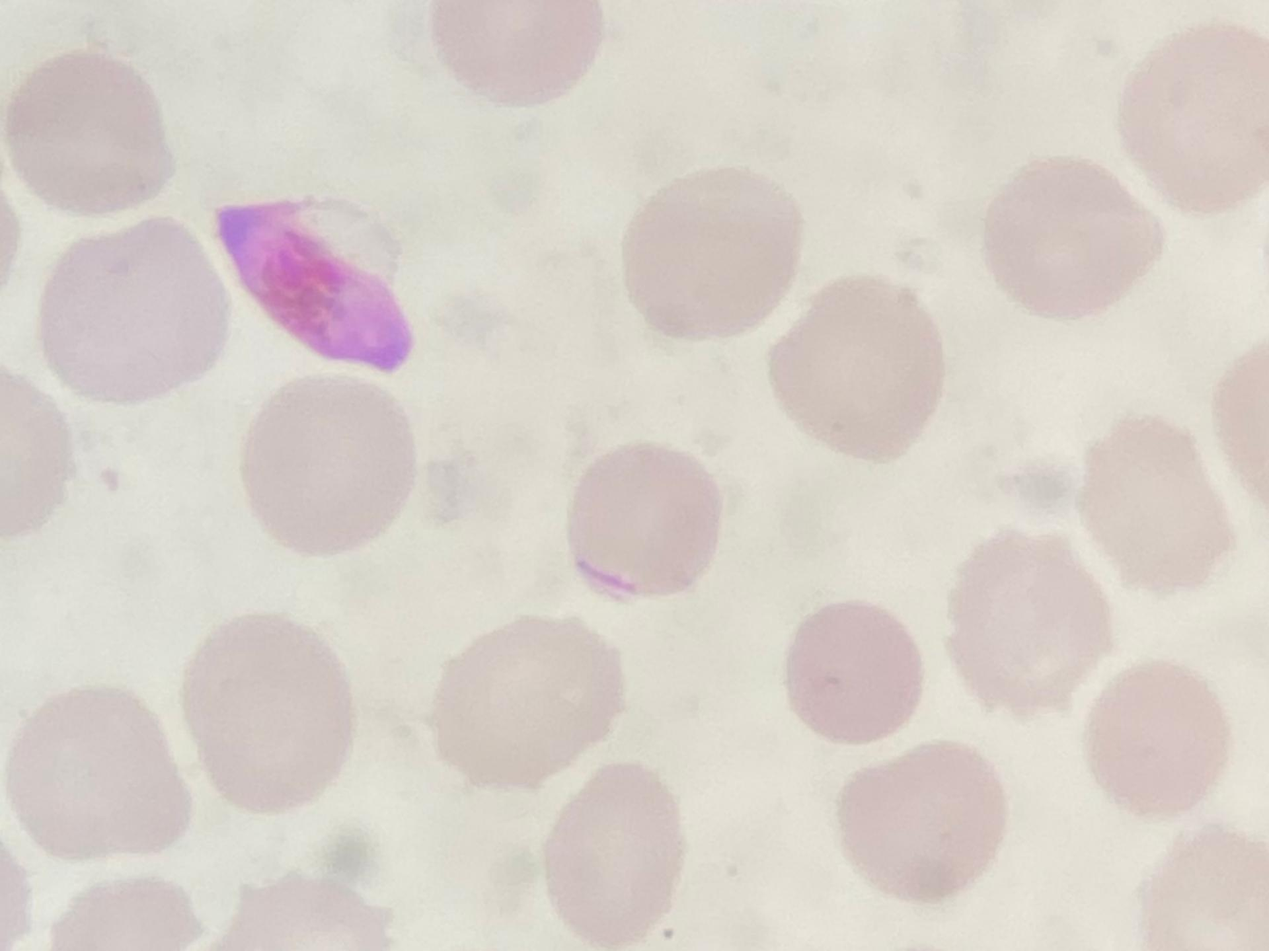Infected: (209, 199, 414, 368)
Uninfected: (183, 616, 358, 815), (40, 219, 225, 401), (430, 619, 621, 787), (5, 685, 184, 860), (771, 280, 946, 458), (621, 169, 803, 335), (247, 375, 417, 549), (983, 158, 1158, 318), (950, 533, 1110, 708), (834, 740, 1005, 903), (5, 51, 175, 214), (1119, 26, 1267, 207), (1080, 417, 1229, 588), (543, 763, 683, 942), (566, 443, 722, 597), (1082, 666, 1225, 817), (783, 601, 925, 745), (1143, 829, 1268, 944)
